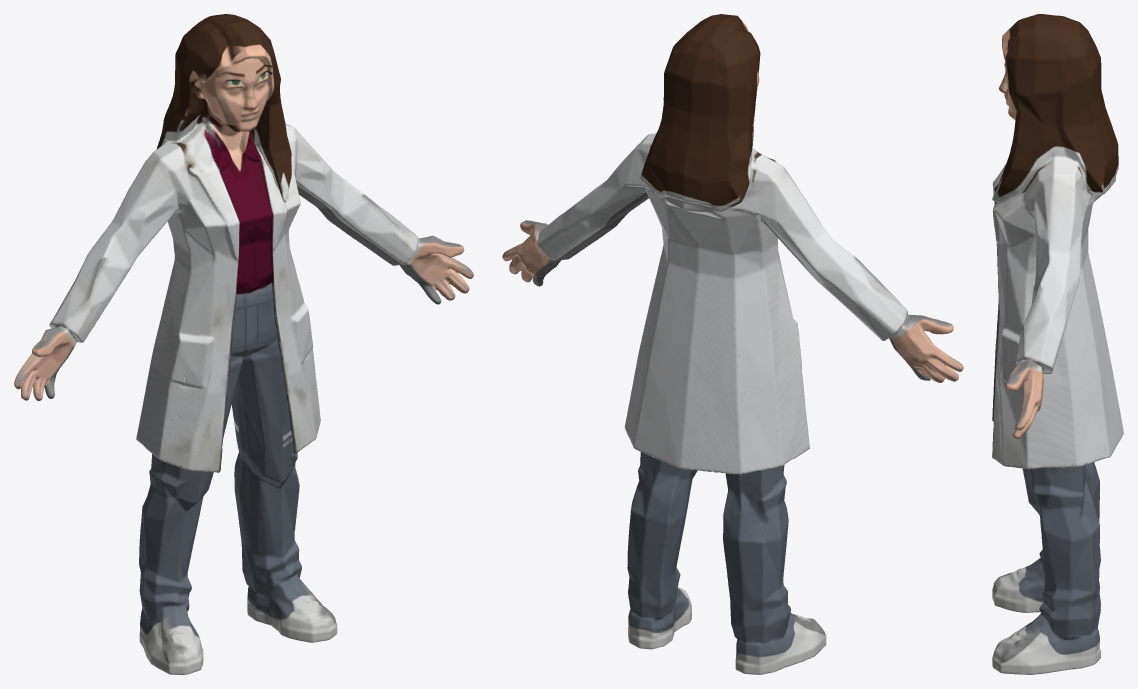
File: DRA_Clara.glb
3 views of the same model, side by side, from view 1: azimuth 30°, elevation 25°; view 2: azimuth 150°, elevation 25°; view 3: azimuth 270°, elevation 25° (orthographic).
Visible parts, largest first — view 1: tripo_node_65a52297-eda1-45cb-9705-1aacc8f0c491; view 2: tripo_node_65a52297-eda1-45cb-9705-1aacc8f0c491; view 3: tripo_node_65a52297-eda1-45cb-9705-1aacc8f0c491.
Boxes of the visible parts, left/top/right/bottom form: tripo_node_65a52297-eda1-45cb-9705-1aacc8f0c491: left=14, top=14, right=473, bottom=674; tripo_node_65a52297-eda1-45cb-9705-1aacc8f0c491: left=502, top=14, right=963, bottom=674; tripo_node_65a52297-eda1-45cb-9705-1aacc8f0c491: left=992, top=14, right=1123, bottom=674.
Bounding box in the file's own units: 0.7741 × 1 × 0.1939.
1 material, 1 textured.
